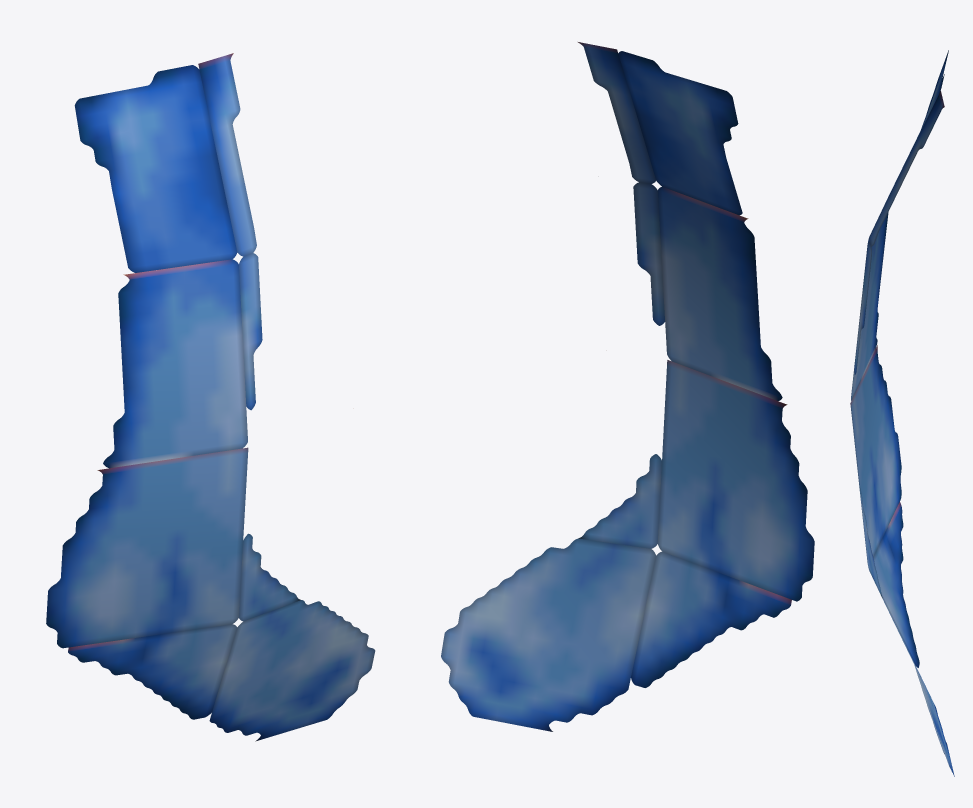
3 renders of one model, left to right at view 1: azimuth 30°, elevation 25°; view 2: azimuth 150°, elevation 25°; view 3: azimuth 270°, elevation 25°, orthographic. The views are drawn at different scales.
Visible parts, largest first — view 1: T1L2M009_48; view 2: T1L2M009_48; view 3: T1L2M009_48.
Part boxes in pixels (x1,y1,x2,y2): T1L2M009_48: [46, 53, 375, 741]; T1L2M009_48: [441, 42, 814, 731]; T1L2M009_48: [850, 50, 954, 776].
Bounding box in the file's own units: 0.3994 × 0.7607 × 0.1191.
